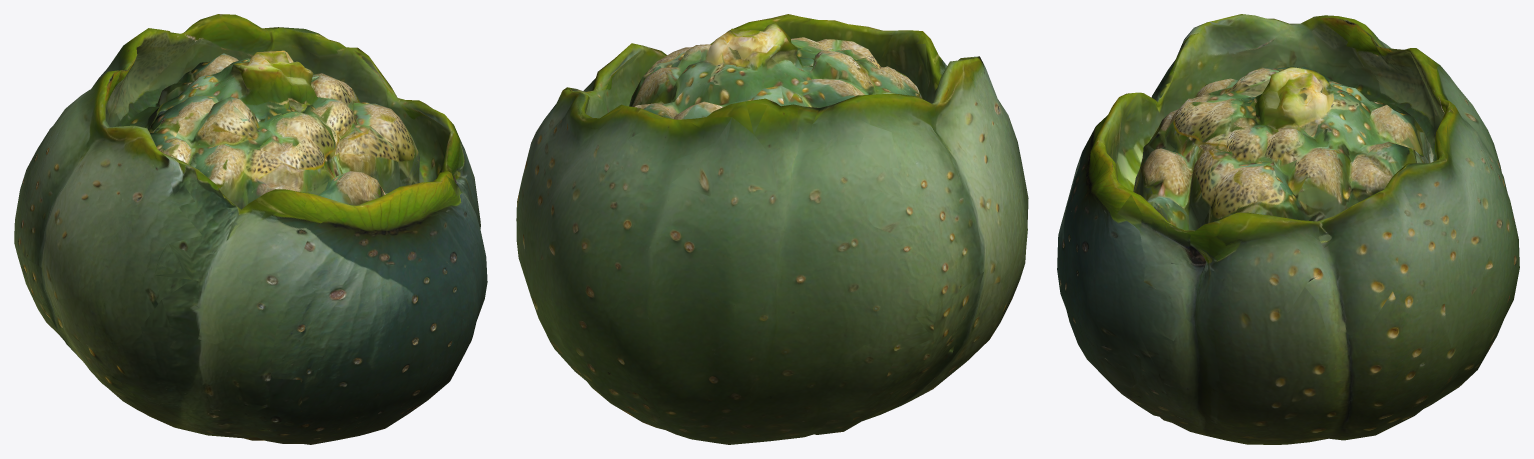
The model's file is Lotus_SeedPod.glb.
3 views of the same model, side by side, from view 1: azimuth 30°, elevation 25°; view 2: azimuth 150°, elevation 25°; view 3: azimuth 270°, elevation 25° (orthographic). The views are drawn at different scales.
Visible parts, largest first — view 1: Mesh1; view 2: Mesh1; view 3: Mesh1.
Boxes of the visible parts, left/top/right/bottom form: Mesh1: left=14, top=14, right=487, bottom=444; Mesh1: left=516, top=14, right=1028, bottom=444; Mesh1: left=1057, top=14, right=1519, bottom=444.
Size of the model in its own units: 1.95 by 1.72 by 2.
1 material, 1 textured.
